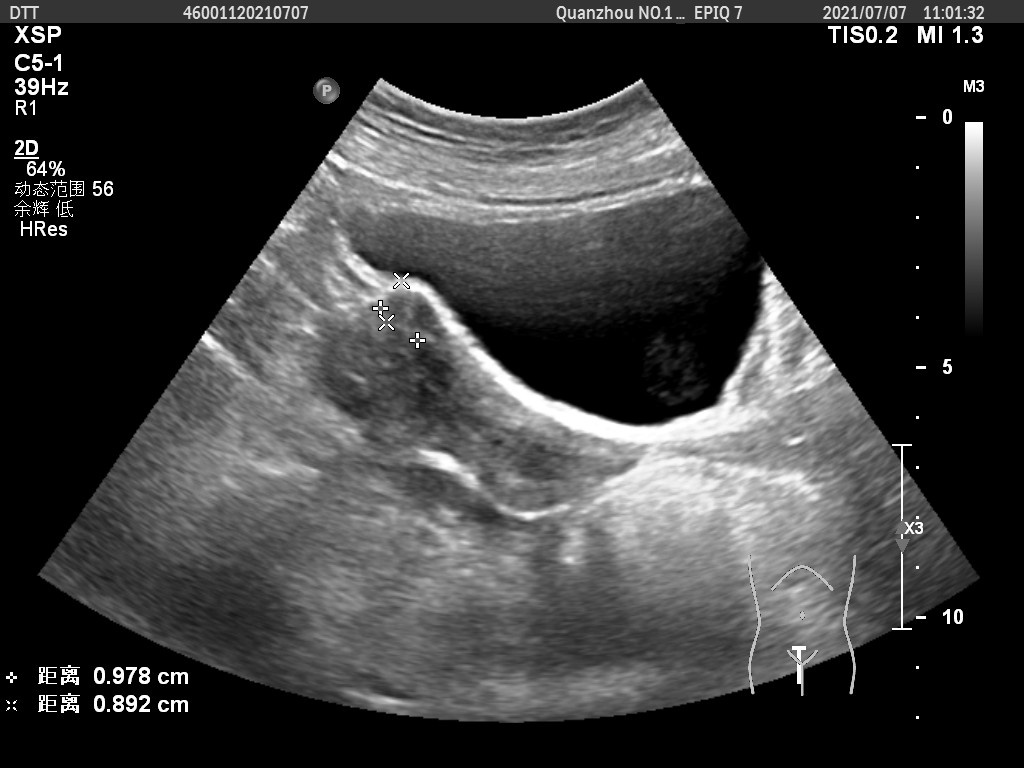肌瘤: (386, 297, 426, 333)
